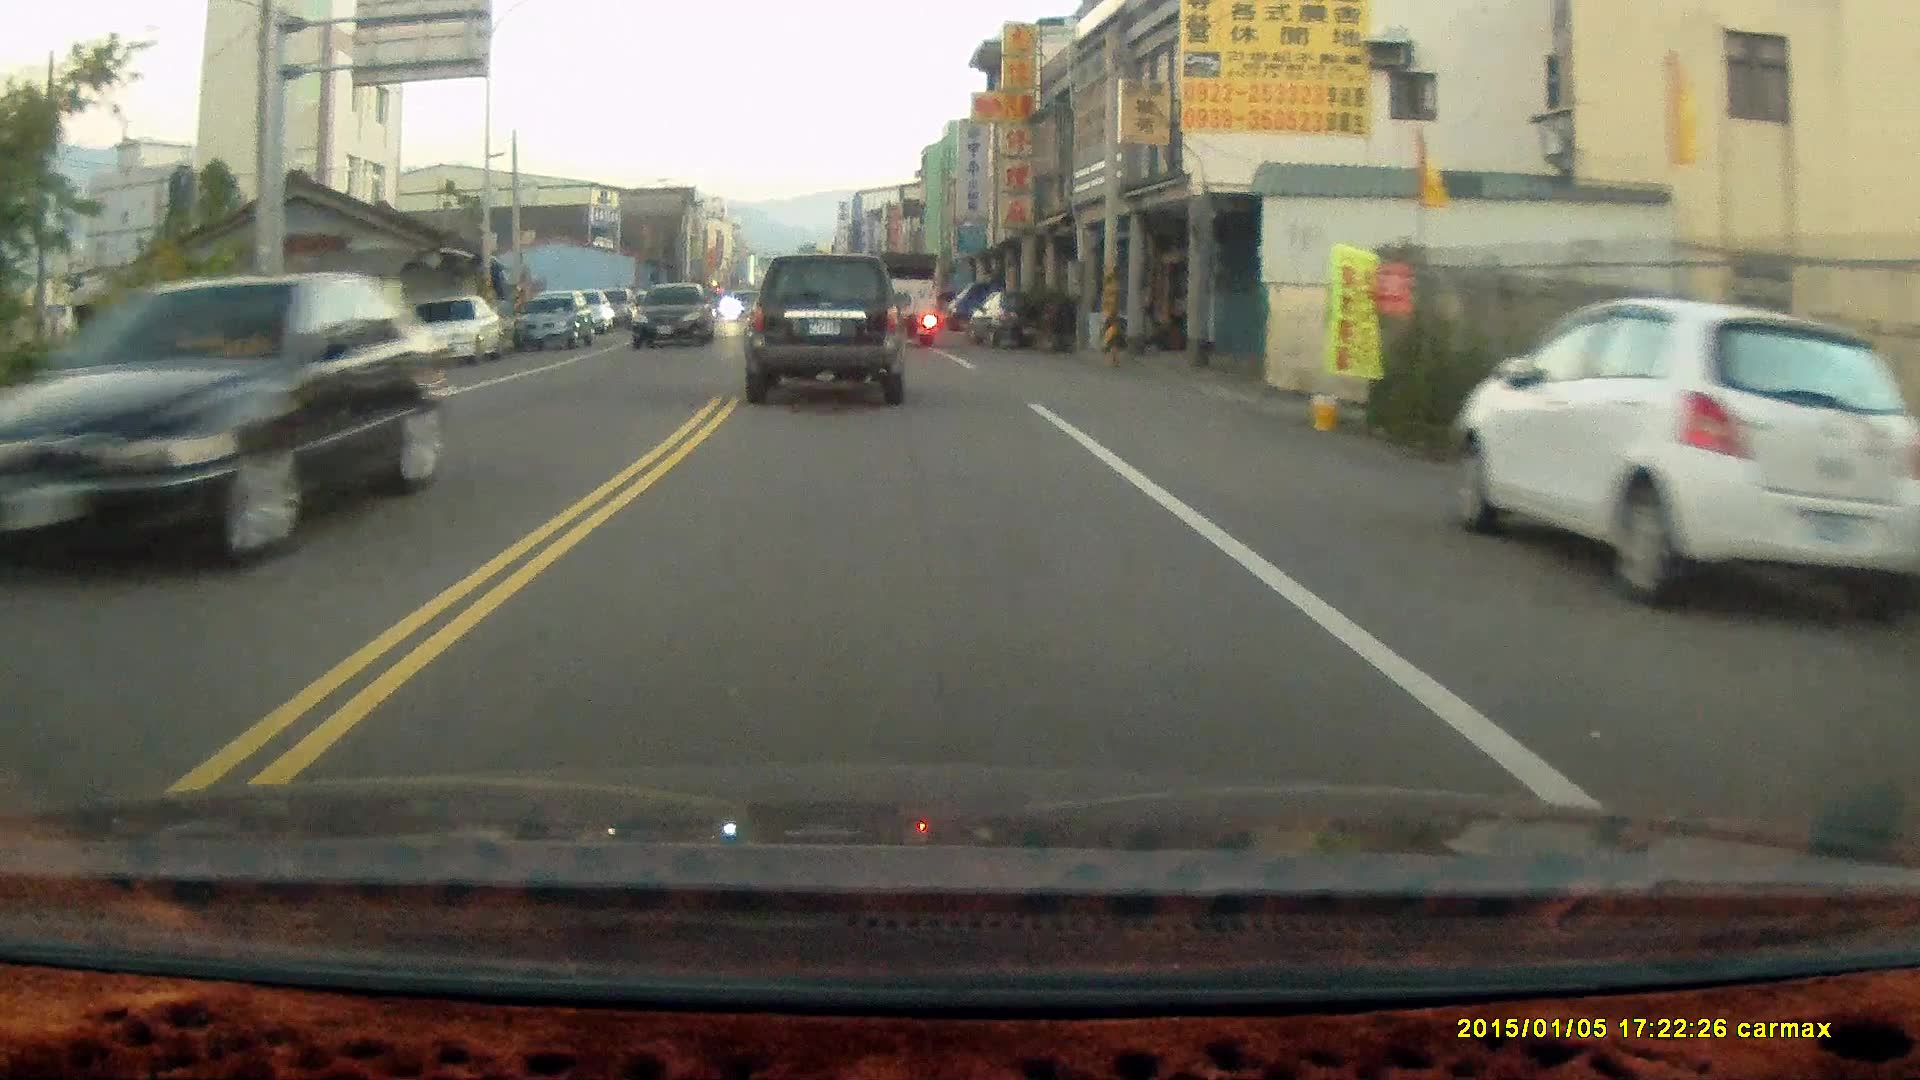vehicle: (1, 272, 458, 580), (1460, 306, 1920, 607), (745, 261, 914, 417), (860, 251, 944, 349), (404, 295, 502, 365), (632, 287, 719, 353), (509, 290, 593, 353)
